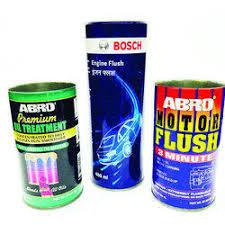Tin: (76, 16, 145, 203), (4, 75, 88, 212), (154, 60, 223, 210)
